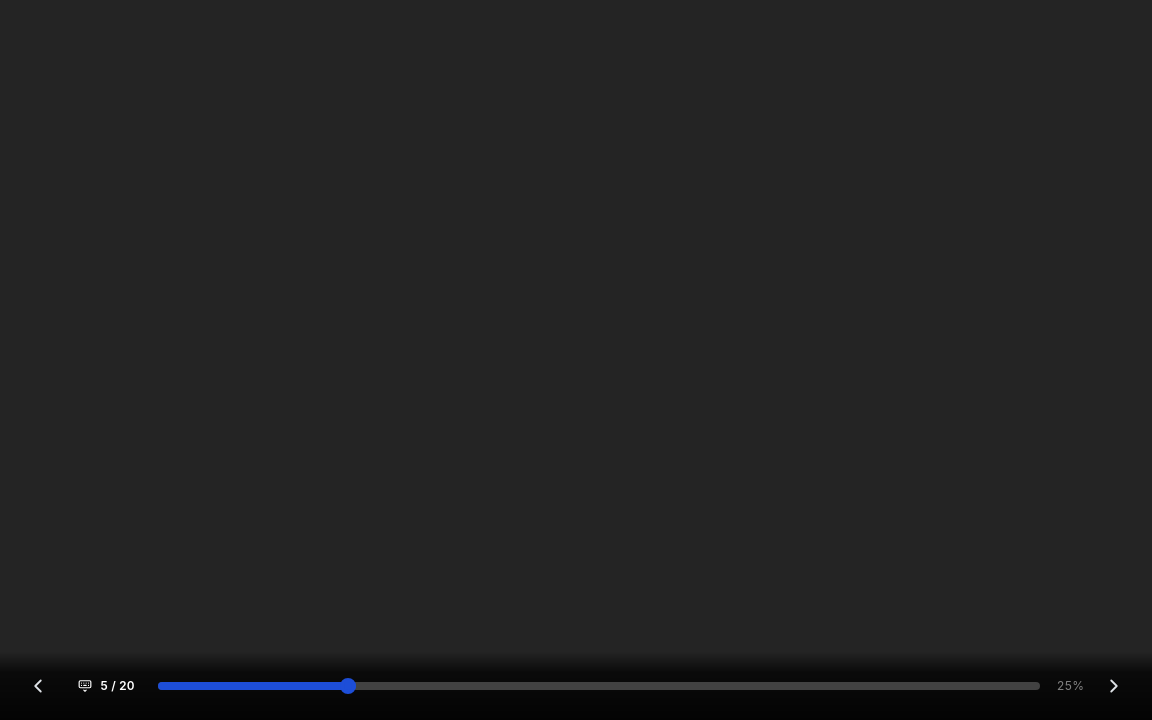
it: MobileReaderBottomBar › phone viewport › opens the jump-to-page modal when the page counter is tapped
Step 1. Click the button named "Jump to page" → click(109, 686), box [68,671,150,701]
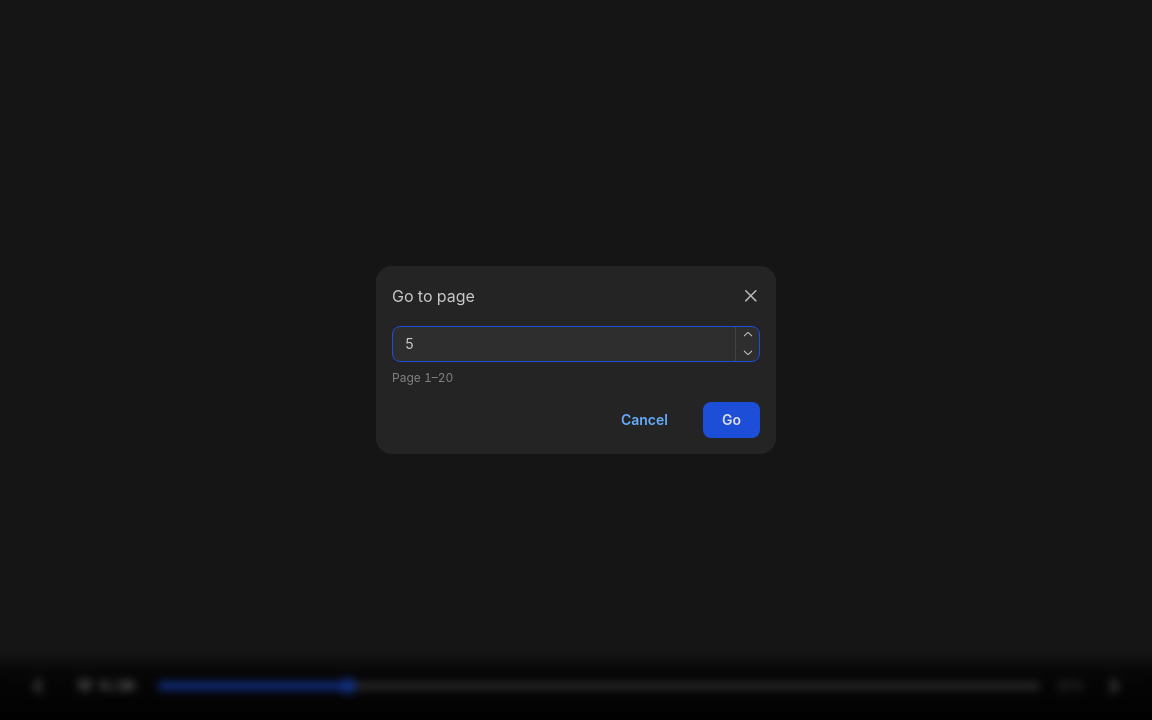
Expected: the dialog "Go to page Page 1–20 Cancel Go" is shown, [376,266,776,454]
